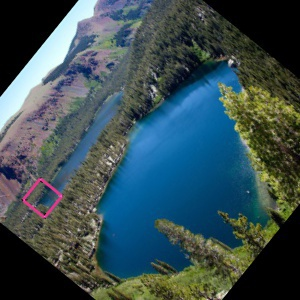square: (21, 176, 63, 219)
